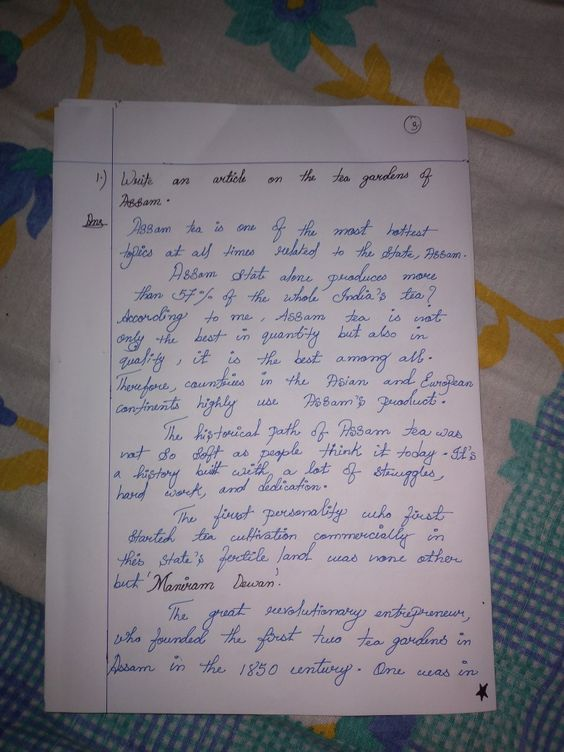page: (53, 104, 470, 706)
